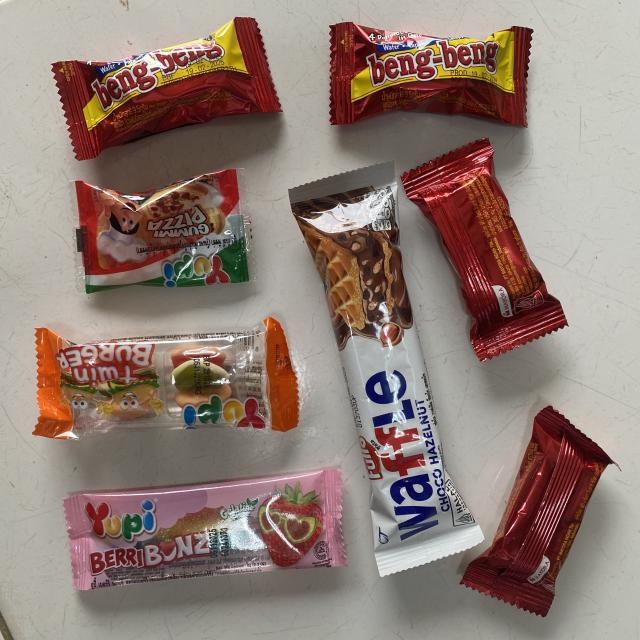plastik: (289, 161, 484, 576), (401, 138, 568, 361), (64, 469, 346, 590), (52, 18, 281, 160), (461, 406, 615, 616), (32, 318, 299, 439), (75, 169, 250, 294), (330, 22, 532, 126)
